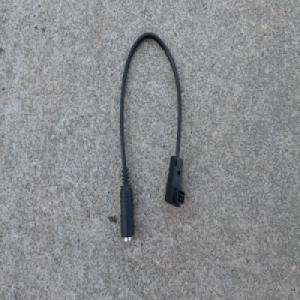Wire: (117, 30, 186, 246)
